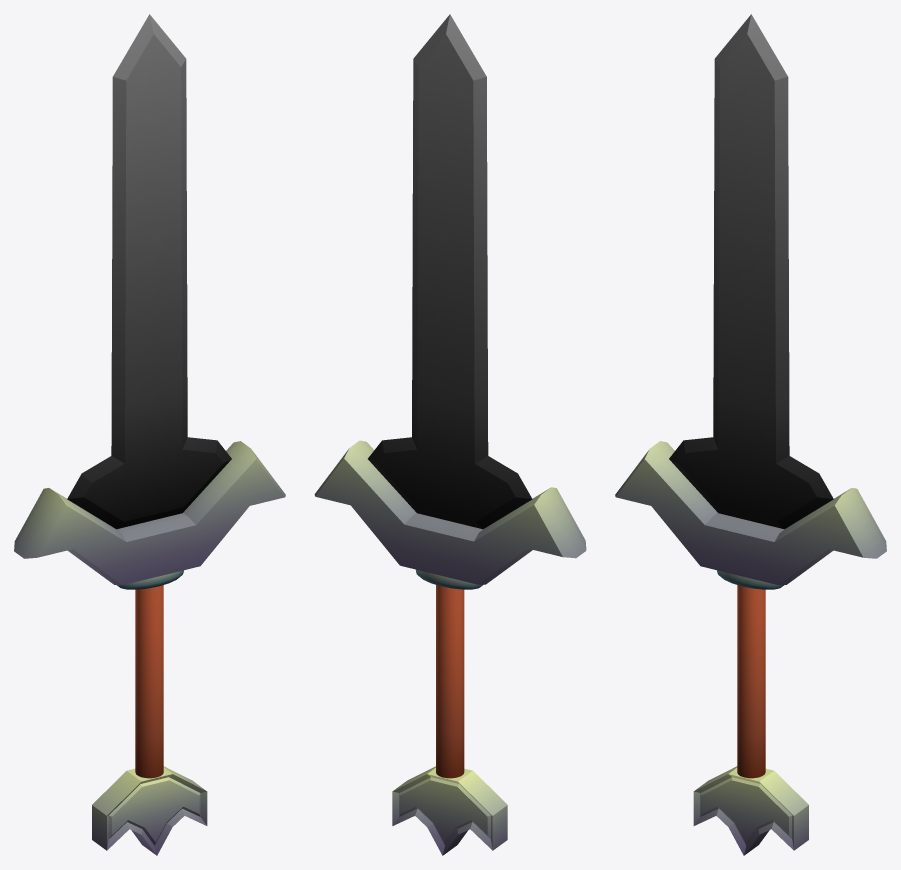
The model's file is low_poly_sword.fbx.
3 views of the same model, side by side, from view 1: azimuth 30°, elevation 25°; view 2: azimuth 150°, elevation 25°; view 3: azimuth 330°, elevation 25° (orthographic).
Parts seen in each view (by area): view 1: blade, supp_blade, below_handle, handle, supp_handle; view 2: blade, supp_blade, below_handle, handle, supp_handle; view 3: blade, supp_blade, below_handle, handle, supp_handle.
Part boxes in pixels (x1=…): blade: x1=67, y1=14, x2=231, y2=529; supp_blade: x1=14, y1=441, x2=285, y2=585; below_handle: x1=92, y1=766, x2=207, y2=855; handle: x1=135, y1=585, x2=163, y2=778; supp_handle: x1=117, y1=570, x2=183, y2=589; blade: x1=368, y1=14, x2=532, y2=529; supp_blade: x1=314, y1=440, x2=586, y2=584; below_handle: x1=392, y1=766, x2=507, y2=855; handle: x1=436, y1=585, x2=464, y2=778; supp_handle: x1=416, y1=569, x2=483, y2=589; blade: x1=669, y1=14, x2=833, y2=529; supp_blade: x1=615, y1=441, x2=886, y2=585; below_handle: x1=693, y1=766, x2=808, y2=855; handle: x1=737, y1=585, x2=765, y2=778; supp_handle: x1=717, y1=570, x2=783, y2=589.
Bounding box in the file's own units: 12.67 × 38.68 × 1.9.
